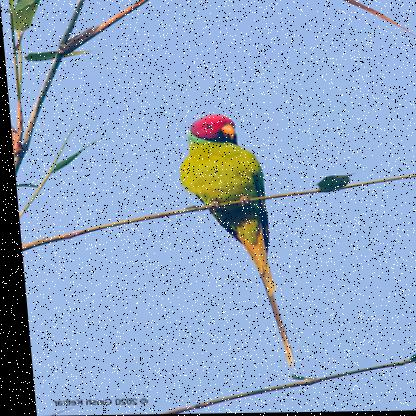Burung: (174, 113, 288, 366)
